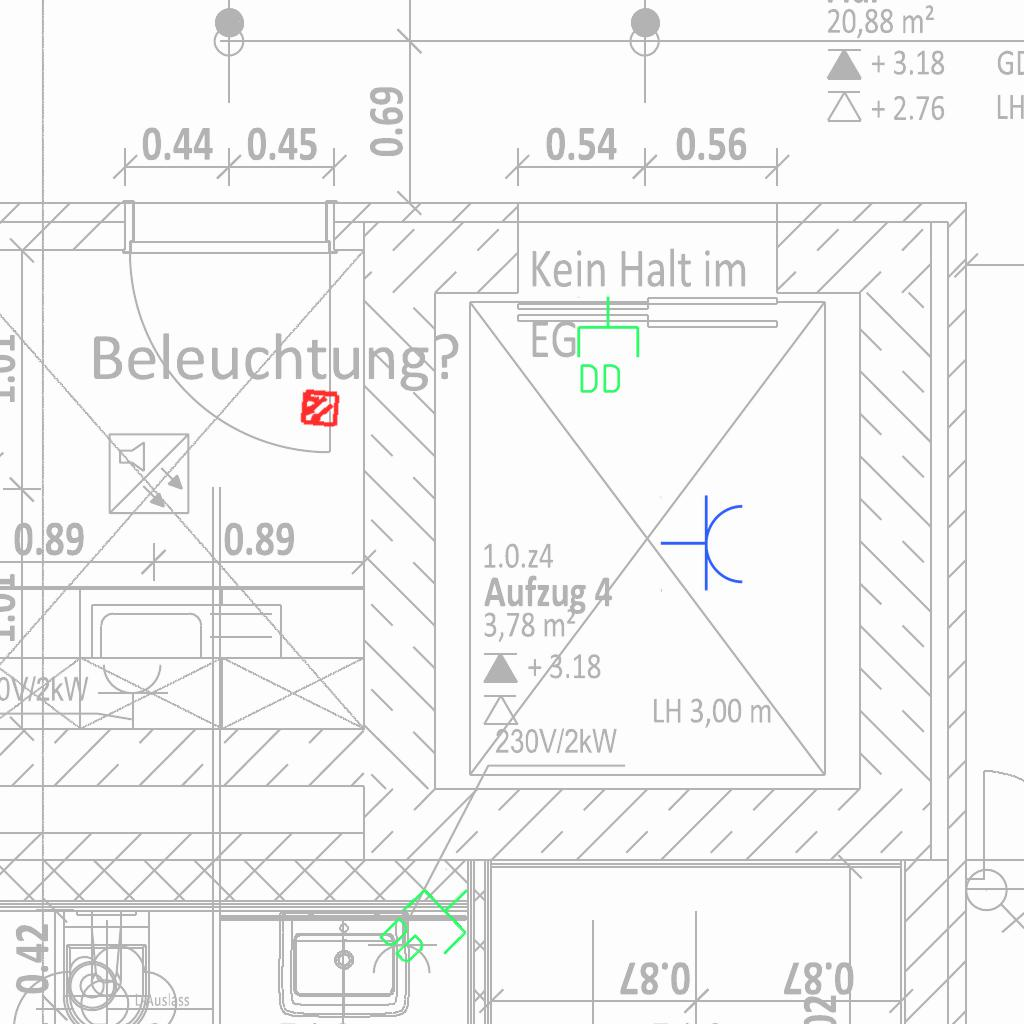Datenanschluss_zweifach: (370, 862, 493, 985), (573, 294, 642, 397)
OT_Multisensormelder_(Kombination_RMO_WMD): (288, 377, 350, 439)
Schukosteckdose_einfach: (660, 494, 747, 594)
